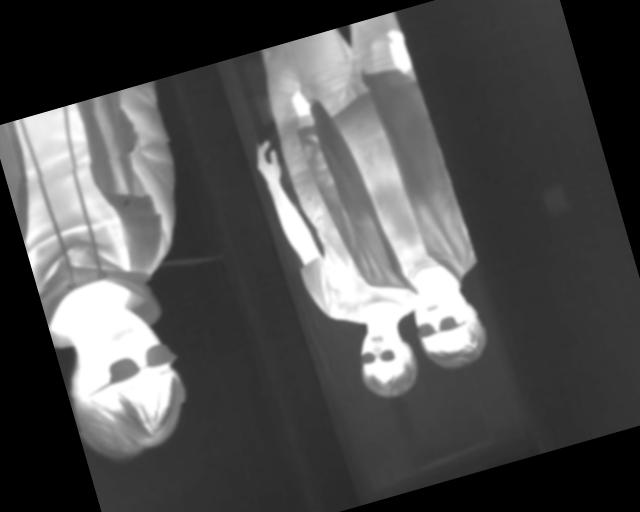face: (49, 297, 197, 471), (406, 275, 492, 376), (349, 316, 424, 405)
